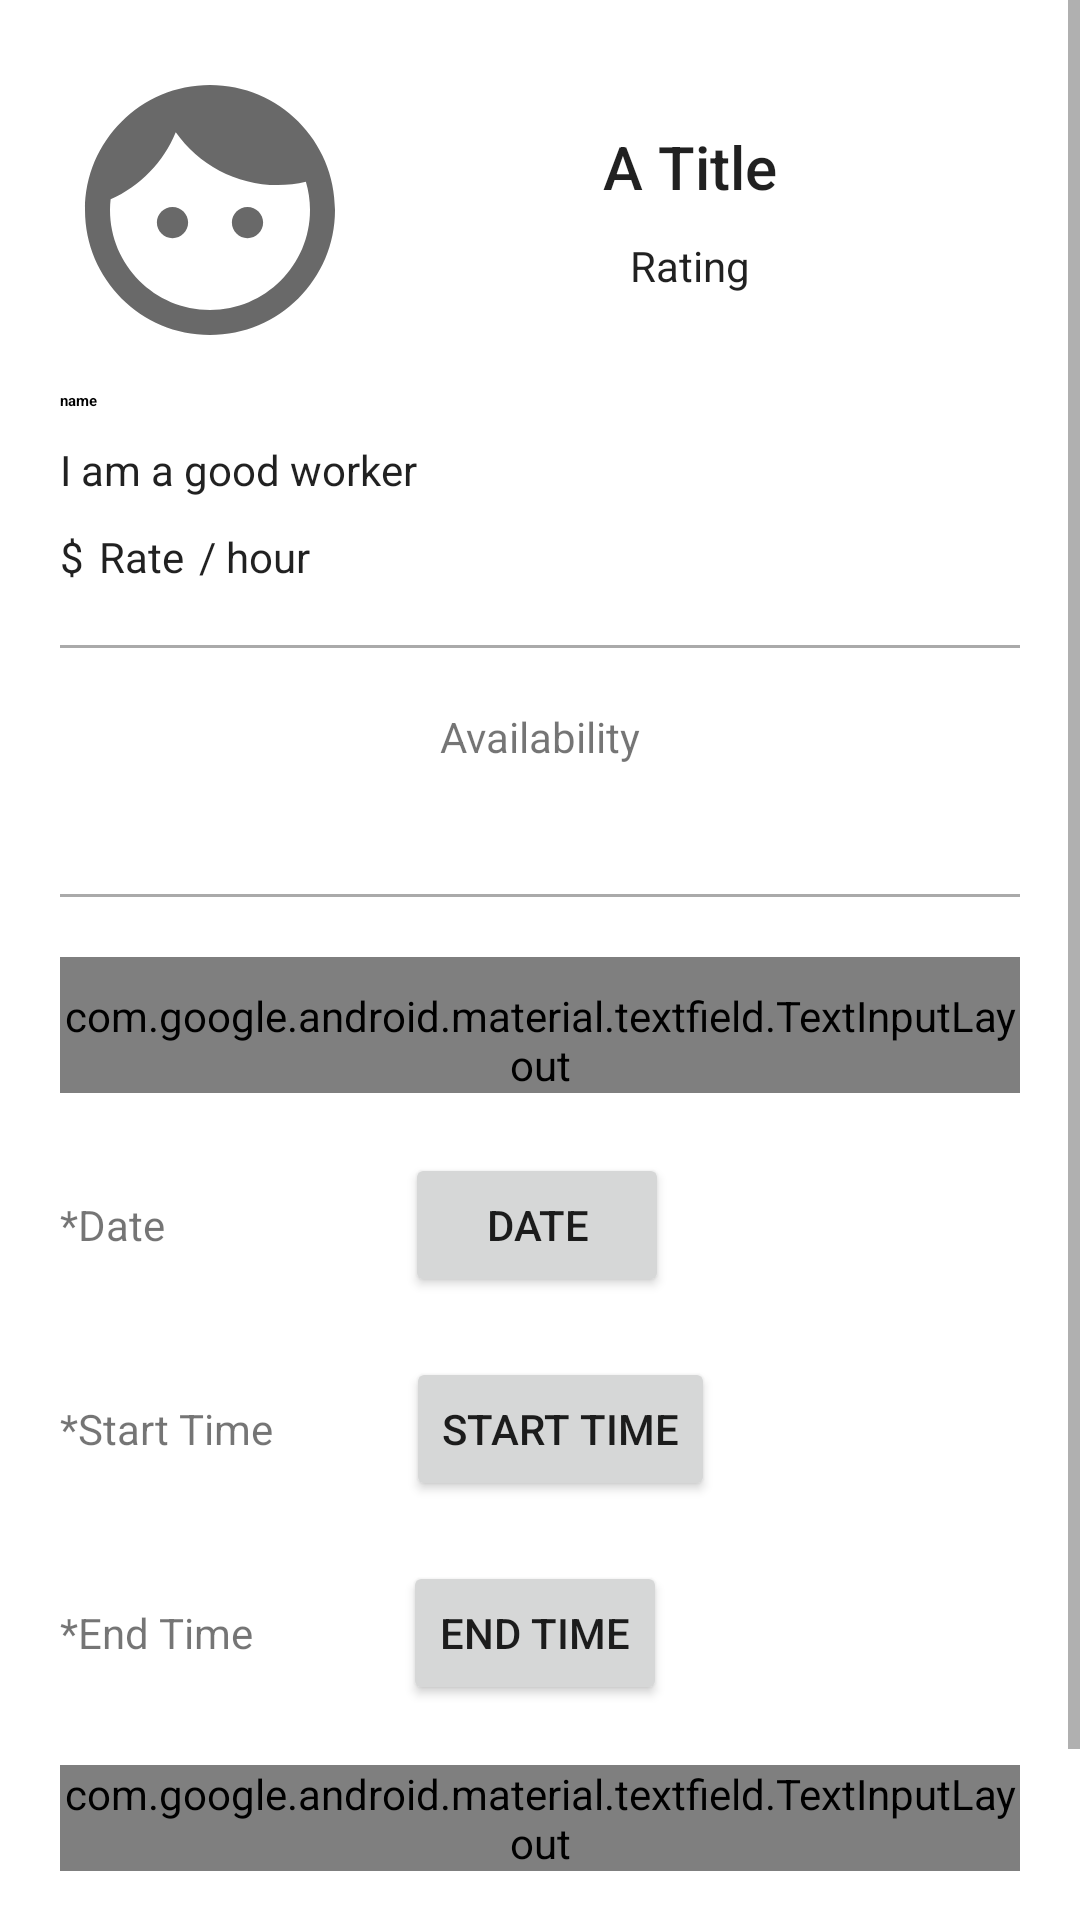

Named icons in this screenshot (1080 x 1920) and their bounding boxes, box=[x1, y1, x2, y2]:
face: box=[85, 85, 335, 335]
